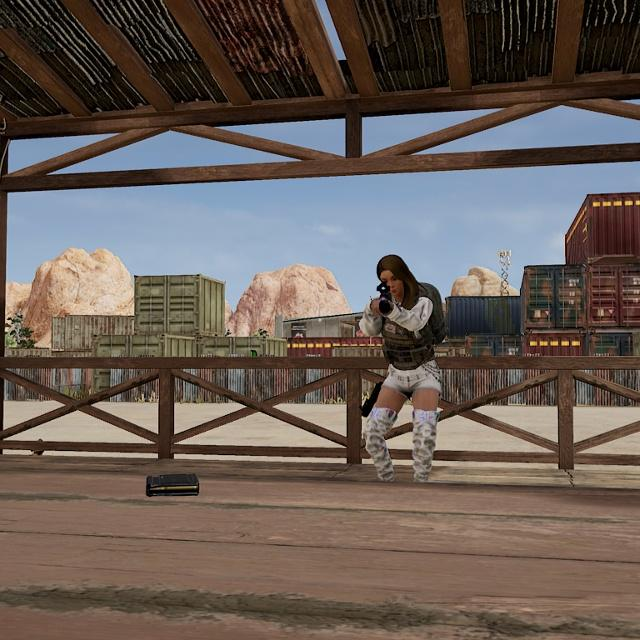head: (370, 249, 419, 308)
people: (353, 244, 456, 483)
